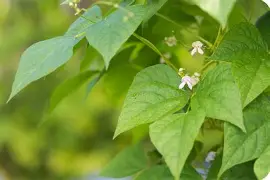crops: (0, 7, 264, 175)
